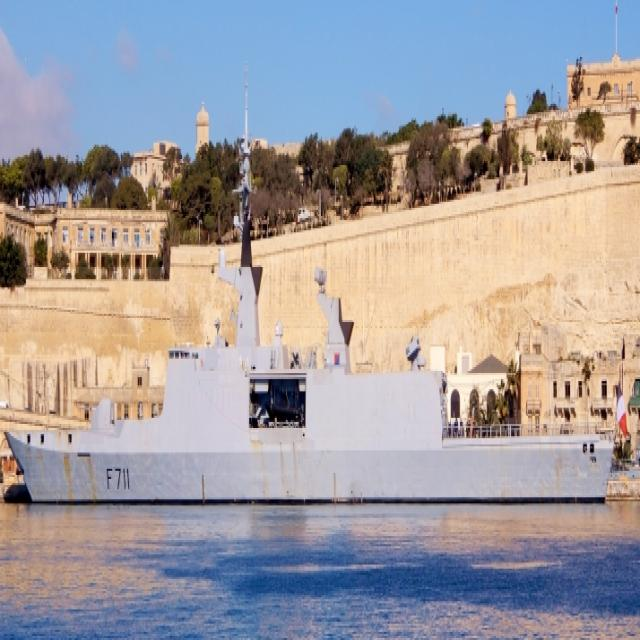Fragata: (3, 95, 620, 517)
